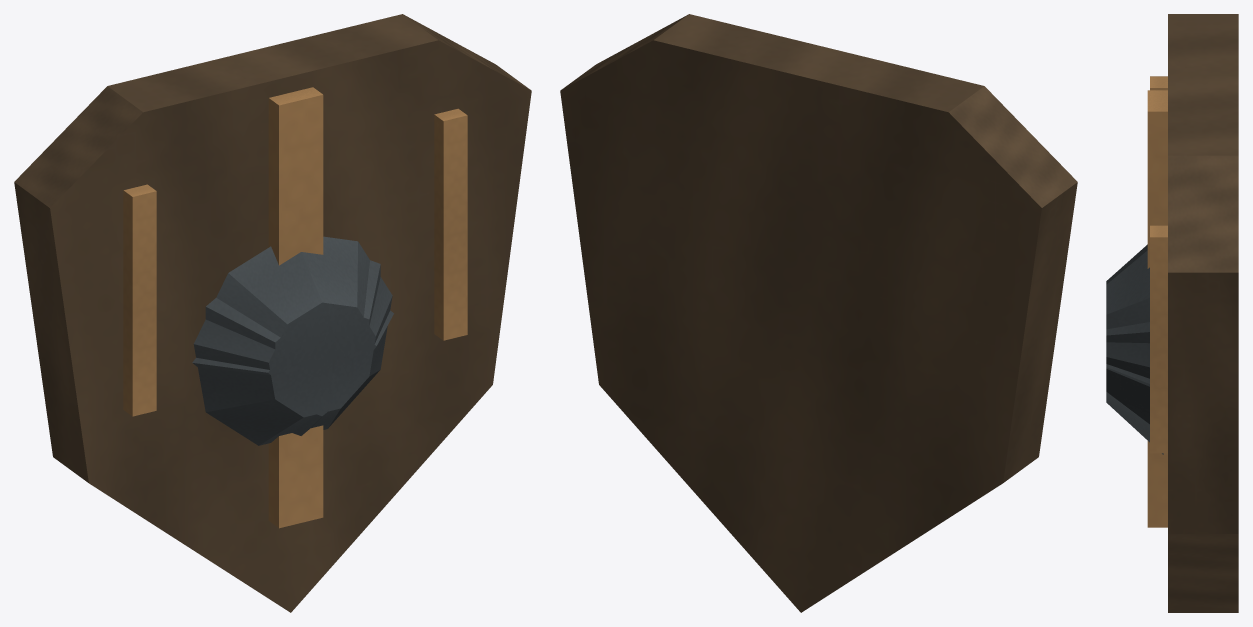
Rendered from ShieldPlate.fbx.
The picture shows the model from 3 angles, left to right: view 1: azimuth 30°, elevation 25°; view 2: azimuth 150°, elevation 25°; view 3: azimuth 270°, elevation 25°; orthographic projection.
Visible parts, largest first — view 1: ShieldPlateDetail0, ShieldPlateDetail1, ShieldPlateDetail2; view 2: ShieldPlateDetail0; view 3: ShieldPlateDetail0, ShieldPlateDetail1, ShieldPlateDetail2.
Boxes of the visible parts, bbox=[...] form: ShieldPlateDetail0: bbox=[14, 14, 531, 612]; ShieldPlateDetail1: bbox=[123, 90, 467, 528]; ShieldPlateDetail2: bbox=[192, 304, 393, 415]; ShieldPlateDetail0: bbox=[560, 14, 1077, 612]; ShieldPlateDetail0: bbox=[1106, 14, 1238, 612]; ShieldPlateDetail1: bbox=[1106, 76, 1167, 527]; ShieldPlateDetail2: bbox=[1106, 364, 1149, 386].
Size of the model in its own units: 62 by 66 by 15.
1 material, 1 textured.
